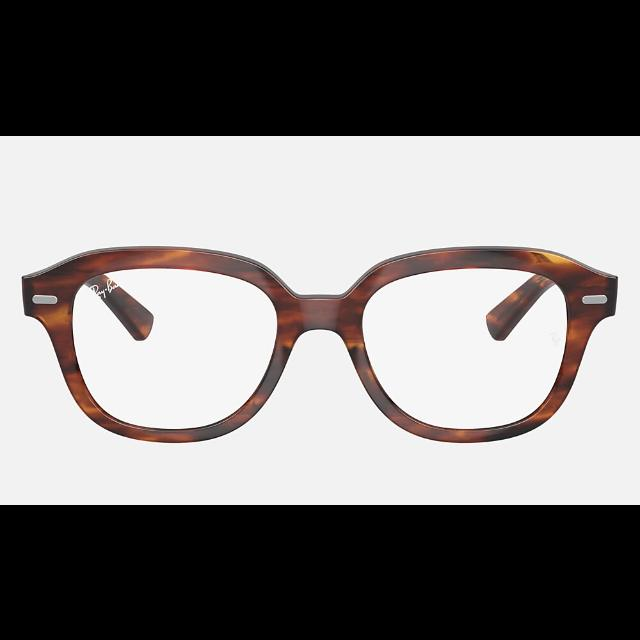glasses: (21, 245, 617, 442)
